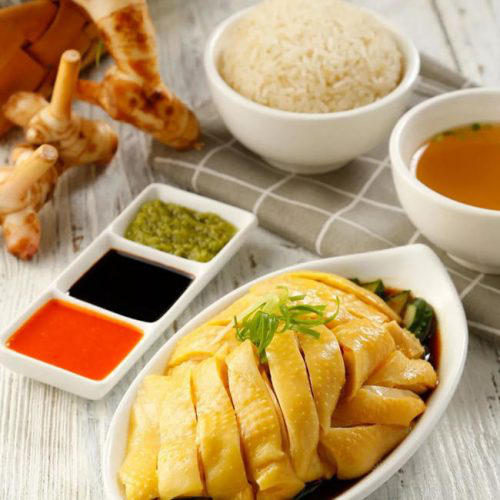Steamed Chicken Rice: (122, 253, 428, 491)
